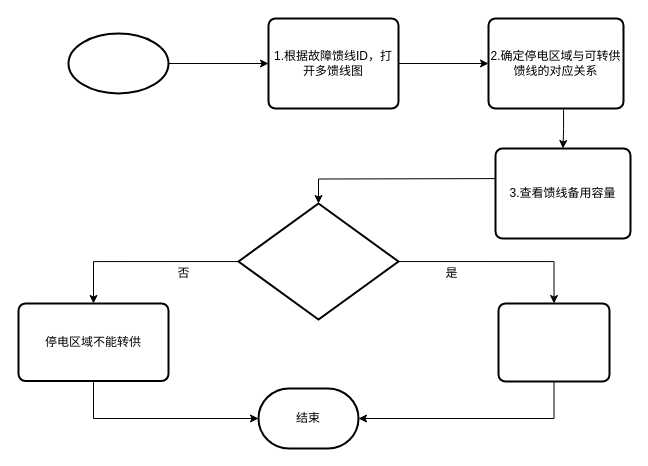
This 648x466 diagram has some shape labels left out. Here are the shapes that lost their labels. From the top down, the centre of each, then its label:
At point 118,63: "开始".
At point 318,261: "备用容量>=停电区域的最大容量？".
At point 553,342: "4.选出最合适的联络开关".
